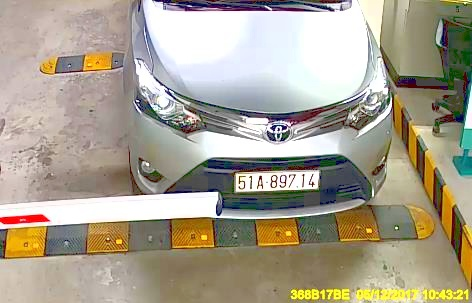plate: (230, 165, 322, 192)
